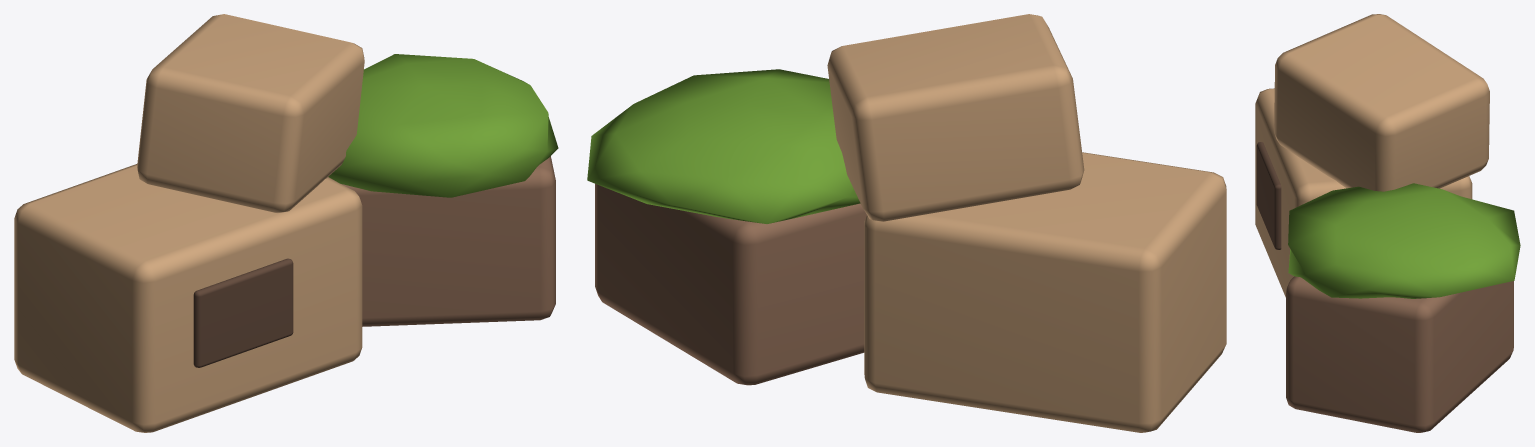
Rendered from jungle_rubble.glb.
3 renders of one model, left to right at view 1: azimuth 30°, elevation 25°; view 2: azimuth 150°, elevation 25°; view 3: azimuth 270°, elevation 25°, orthographic. The views are drawn at different scales.
Visible parts, largest first — view 1: Rubble; view 2: Rubble; view 3: Rubble.
Boxes of the visible parts, x1,y1,x2,y2 form: Rubble: [14, 14, 558, 432]; Rubble: [587, 14, 1226, 432]; Rubble: [1255, 14, 1520, 432].
Bounding box in the file's own units: 2.87 × 1.56 × 1.47.
